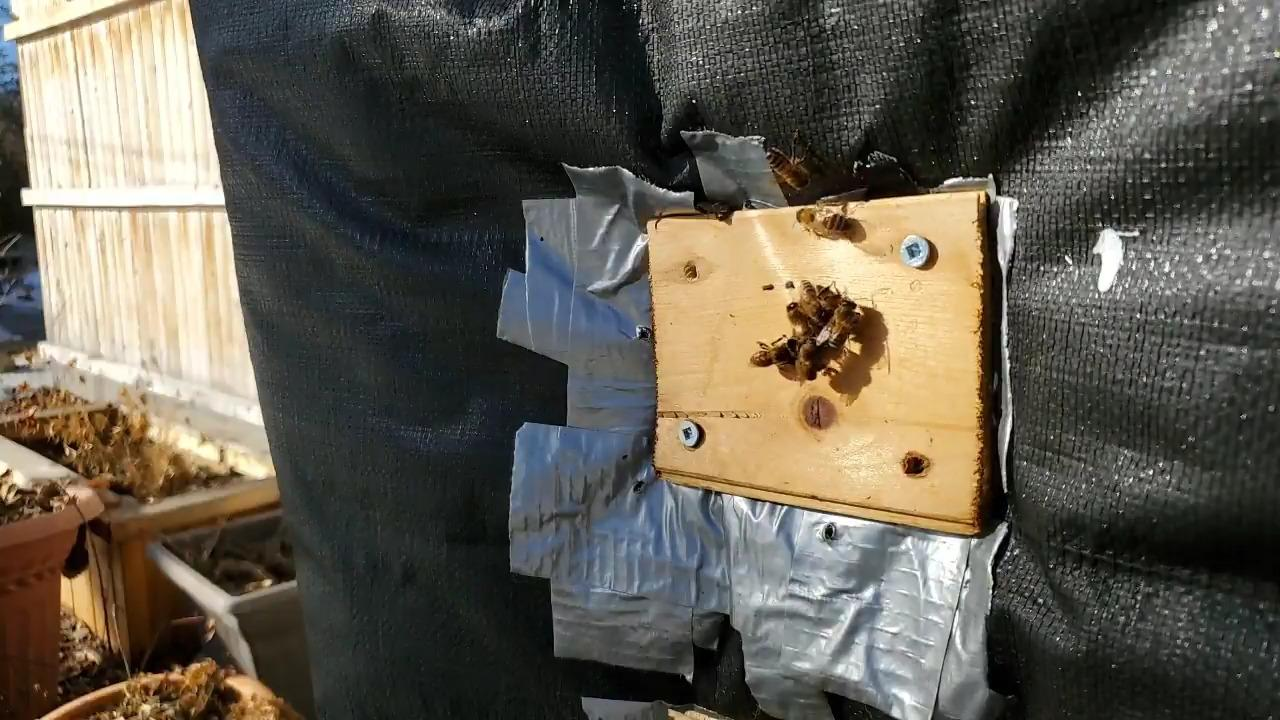bee: (766, 147, 810, 187), (798, 207, 849, 232), (829, 301, 856, 348), (751, 340, 795, 365), (800, 280, 825, 319), (797, 338, 818, 379), (787, 304, 810, 336)
